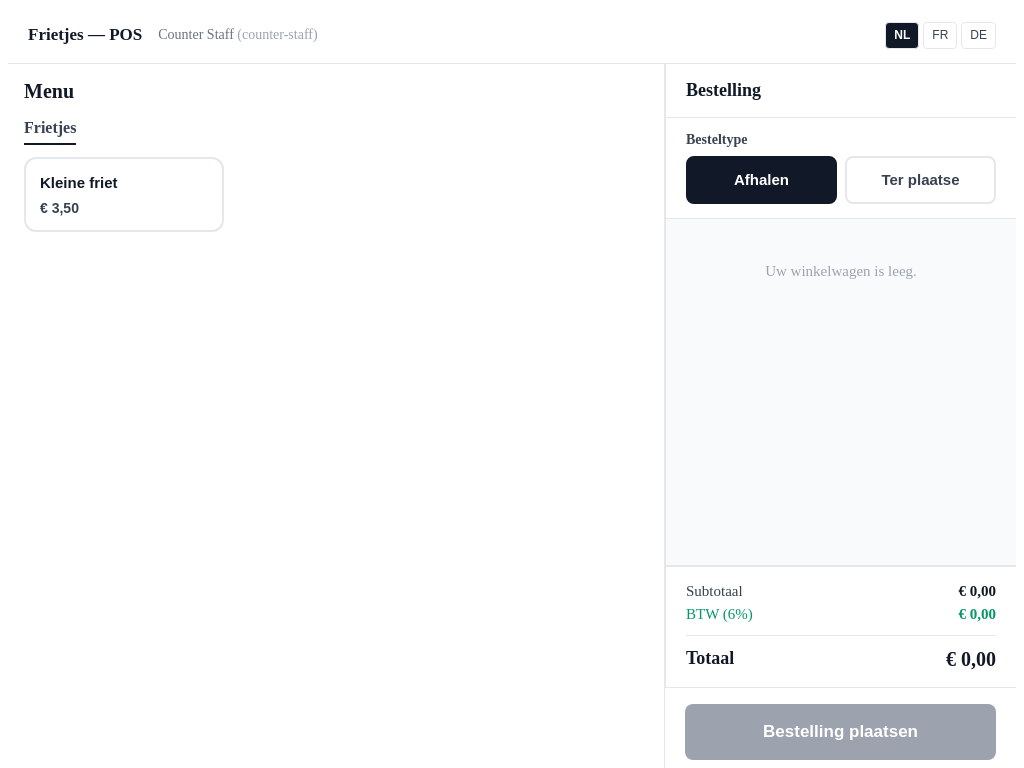
Test: PosDashboard — EatIn submit guard (t-17, AC4) › switching from EatIn back to Pickup re-enables the button without needing a table number
Click the text "Kleine friet" at (79, 183), box [40,173,118,192]
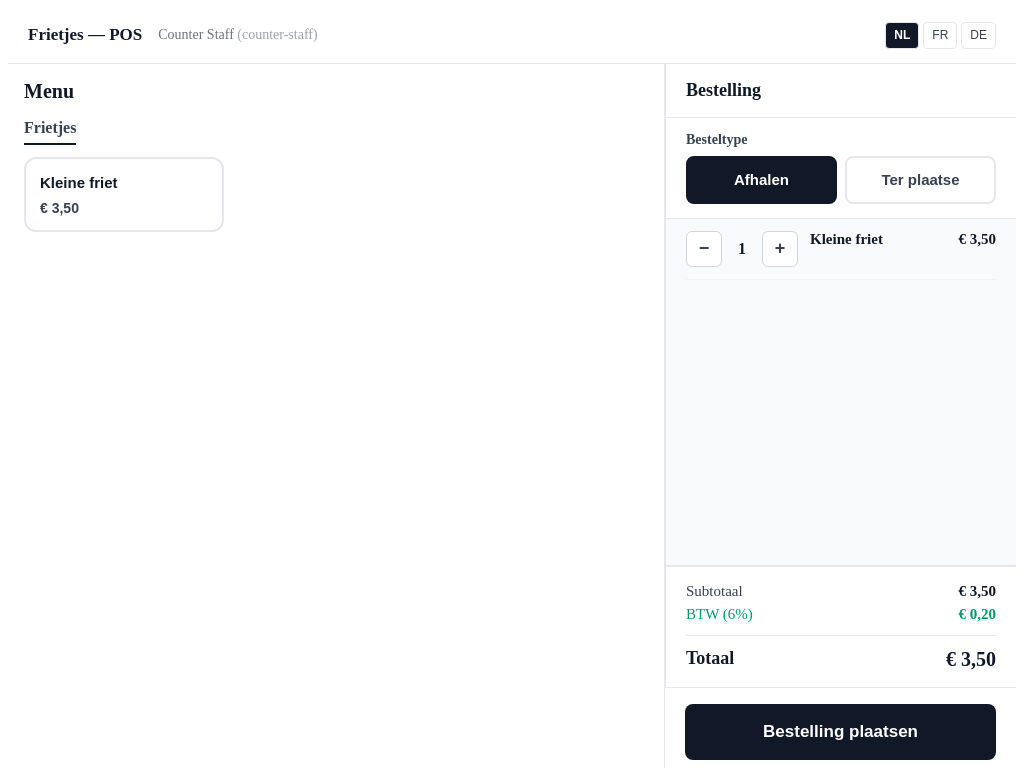
// Switch to EatIn without entering table — button disabled
Click the button with test id "order-type-eatin" at (920, 180), box [845,156,996,204]
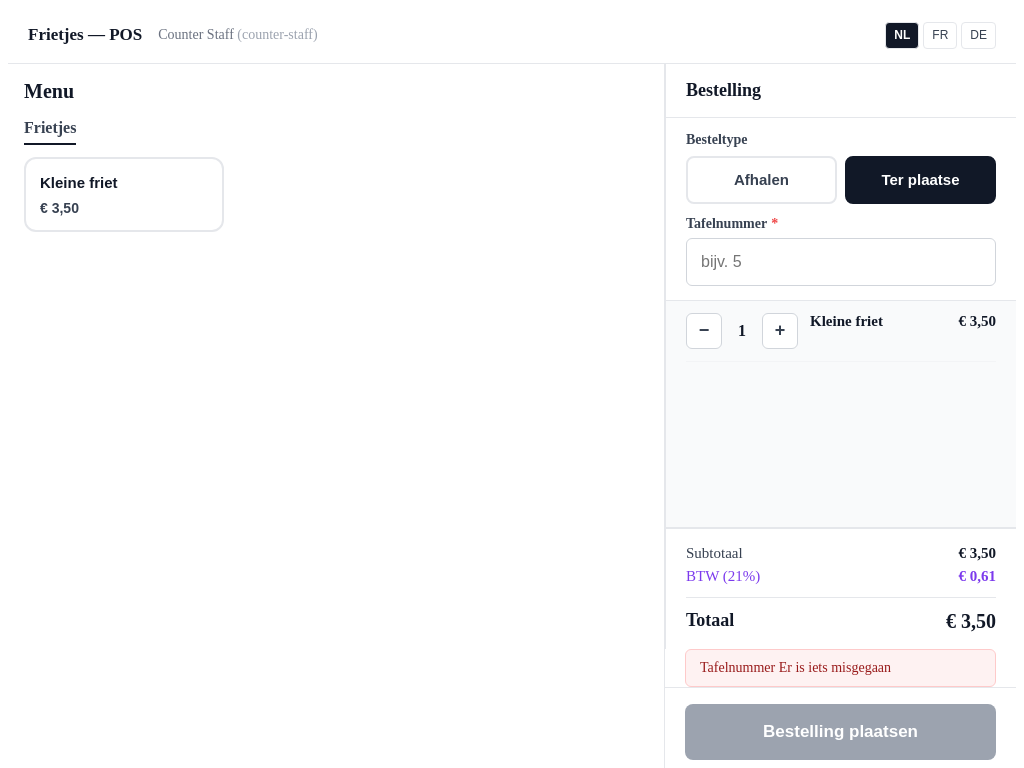
expect the button "Bestelling plaatsen" is disabled: met, box [685,704,996,760]
// Switch back to Pickup
Click the button with test id "order-type-pickup" at (762, 180), box [686,156,837,204]
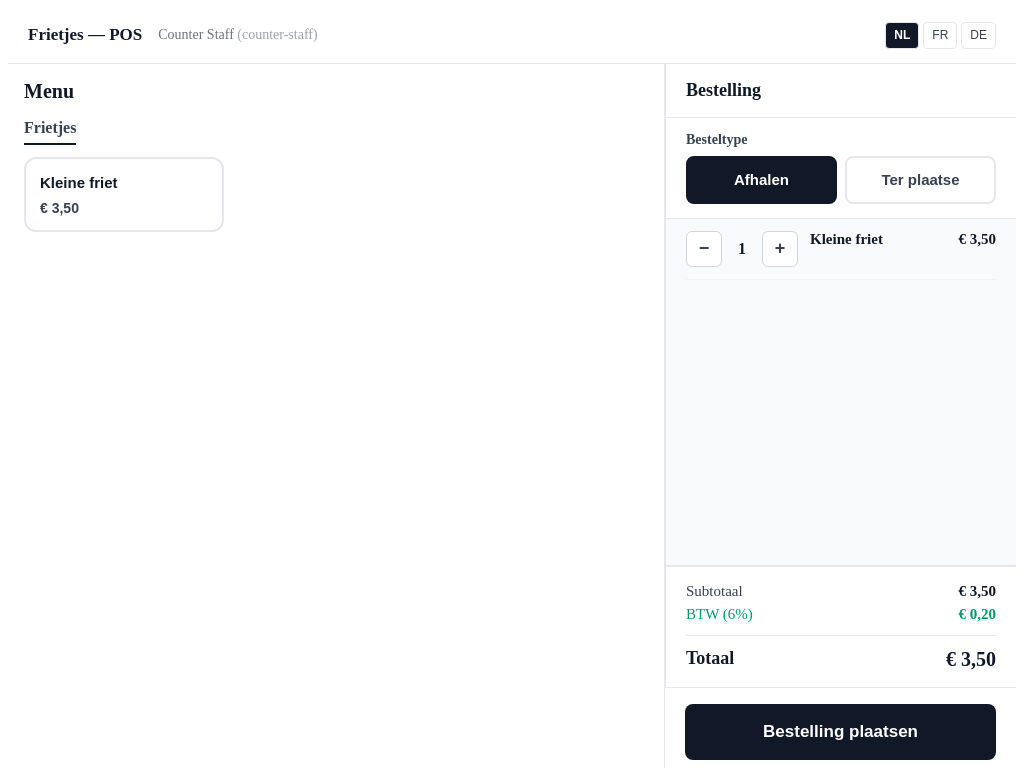
expect the number field with test id "table-number-input" is gone: met
expect the button "Bestelling plaatsen" is enabled: met, box [685,704,996,760]
